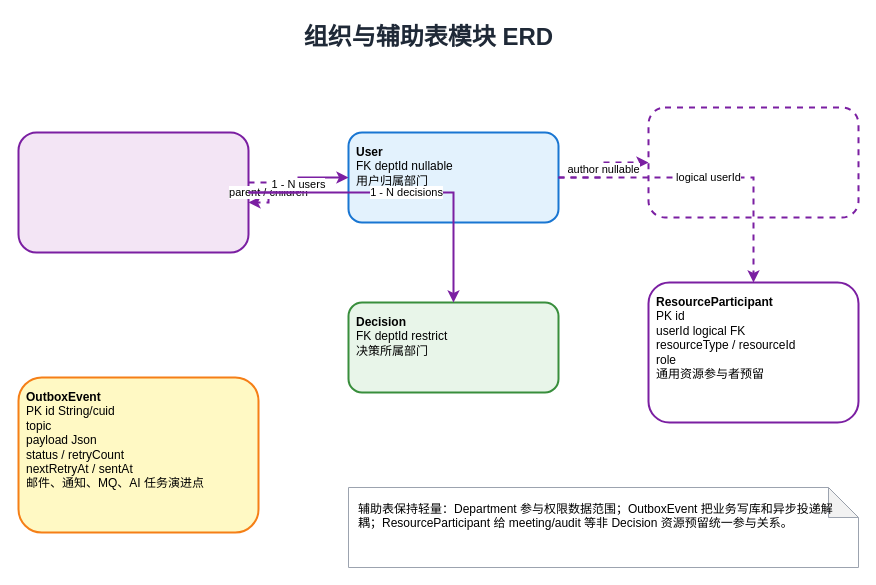
Some shapes in this 876 by 585 pixel diagram are drawn without their labels. Here are the shapes that lost their labels. From the top down, the box of each, then its label:
(647, 106, 859, 218): Post demo 测试表 FK authorId -> User nullable 后续可隔离或移除
(17, 131, 249, 253): Department PK id name FK parentId -> Department.id 部门树 / 数据范围
